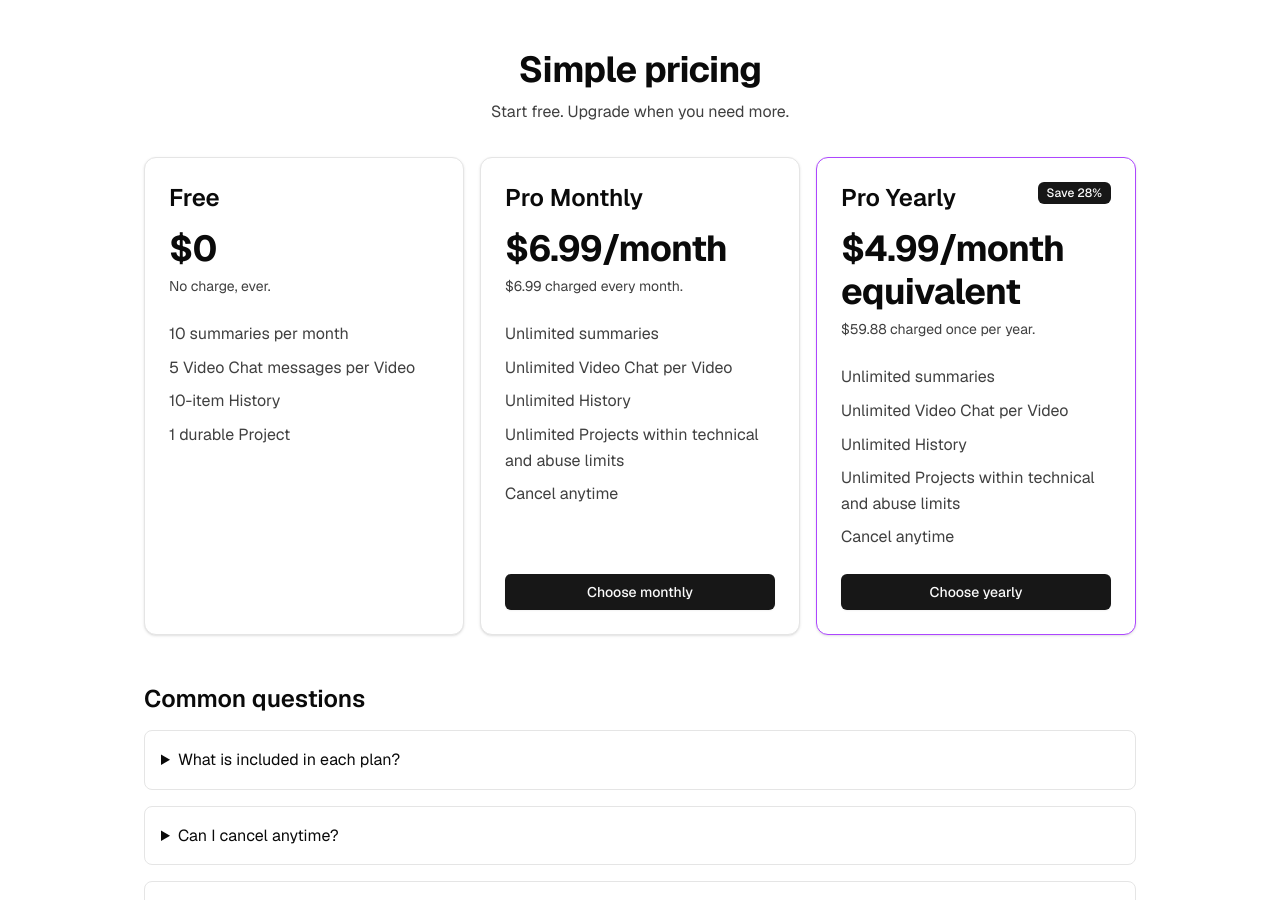
Test: PricingPage › renders an actionable authentication required failure and never starts checkout
This screenshot has width=1280, height=900.
Step 1. Click the button "Choose monthly" → (640, 592), box [505,574,775,610]
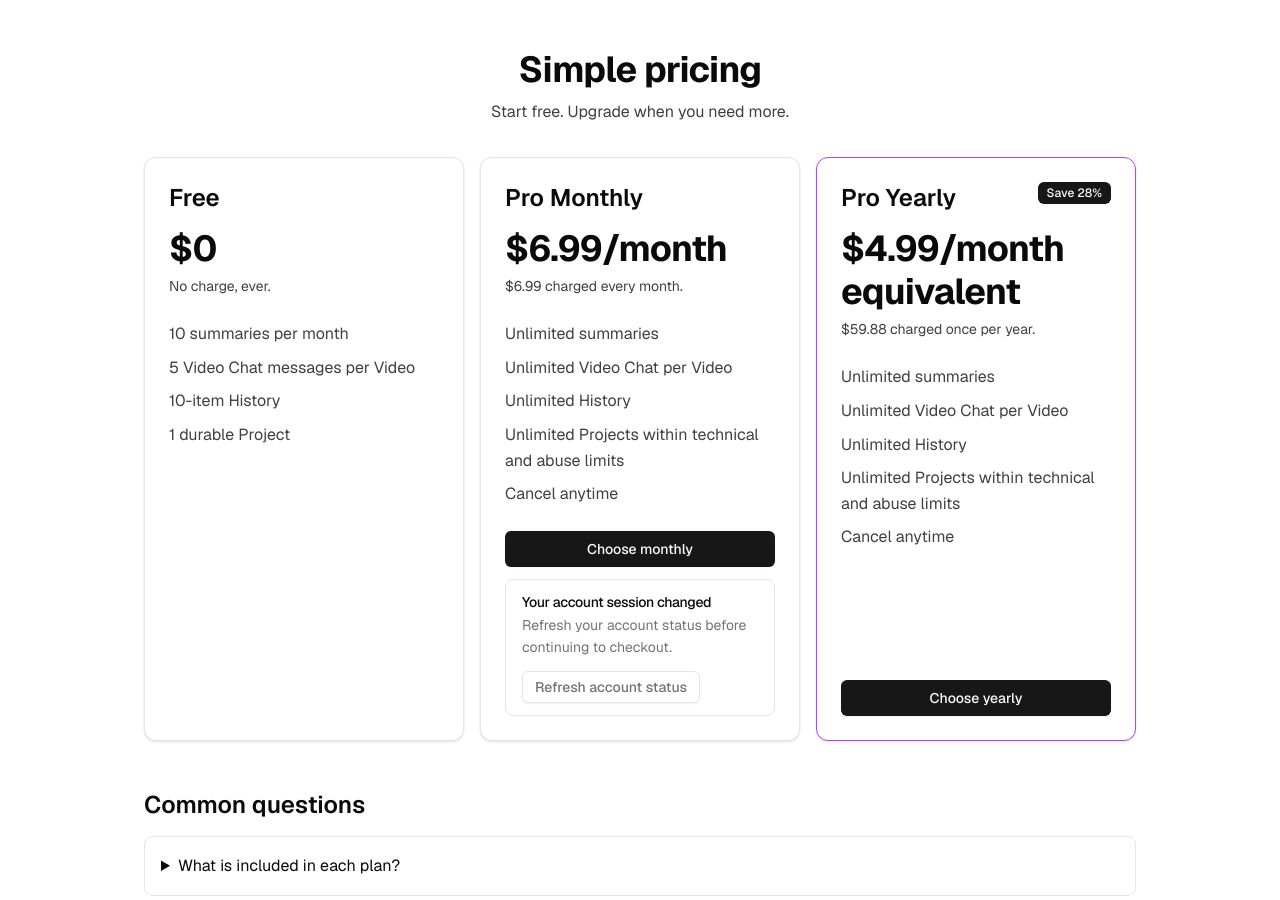
Check: the message shows "Your account session changed", box [522,593,711,611]
Check: the button "Refresh account status" is shown, box [522,671,700,703]
